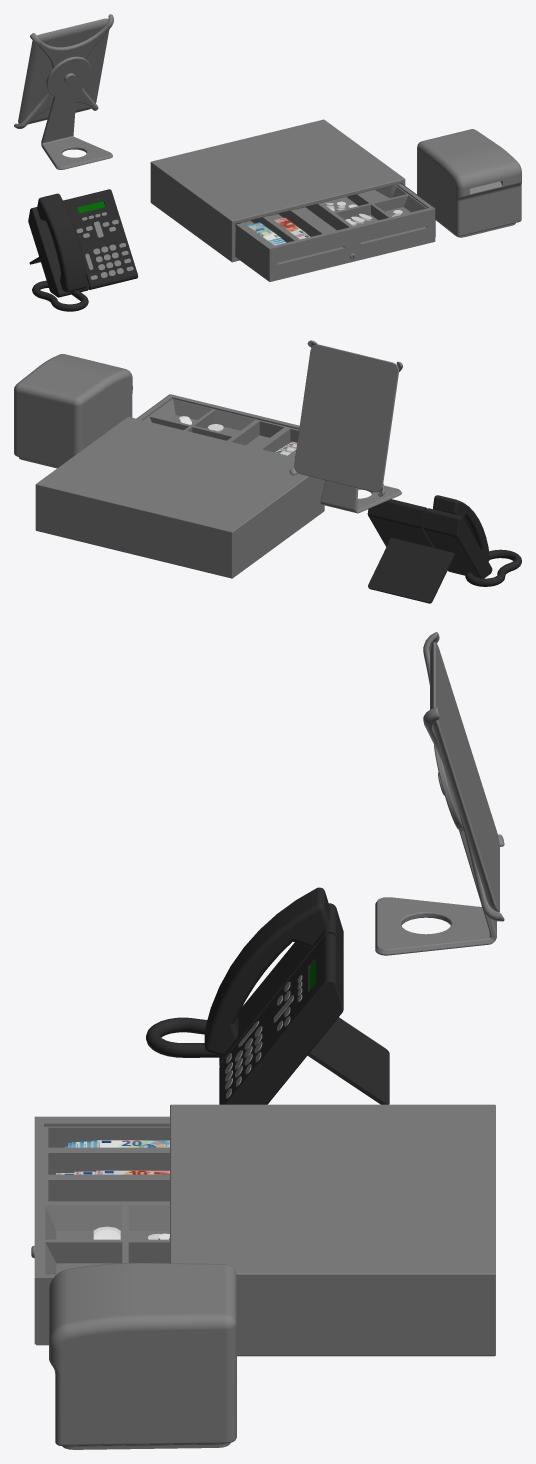
The model's file is detailcomptoir.fbx.
3 renders of one model, top to bottom at view 1: azimuth 30°, elevation 25°; view 2: azimuth 150°, elevation 25°; view 3: azimuth 270°, elevation 25°, orthographic. The views are drawn at different scales.
Parts seen in each view (by area): view 1: cash-drawer, tablet-stand, receipt-printer, Solid1, Cylinder004; view 2: cash-drawer, tablet-stand, Solid1, receipt-printer; view 3: cash-drawer, receipt-printer, Solid1, tablet-stand.
Part boxes in pixels (box(x1,y1,x2,y2)): cash-drawer: box(150, 119, 435, 281); tablet-stand: box(14, 14, 113, 169); receipt-printer: box(417, 129, 521, 237); Solid1: box(28, 189, 138, 311); Cylinder004: box(324, 201, 402, 225); cash-drawer: box(35, 394, 325, 578); tablet-stand: box(289, 340, 402, 513); Solid1: box(367, 495, 521, 603); receipt-printer: box(14, 354, 132, 468); cash-drawer: box(31, 1104, 495, 1356); receipt-printer: box(49, 1263, 236, 1449); Solid1: box(146, 887, 389, 1104); tablet-stand: box(375, 632, 504, 955).
Size of the model in its own units: 1.03 by 0.4893 by 0.4789.
Materials: 6 (2 with a texture image).
